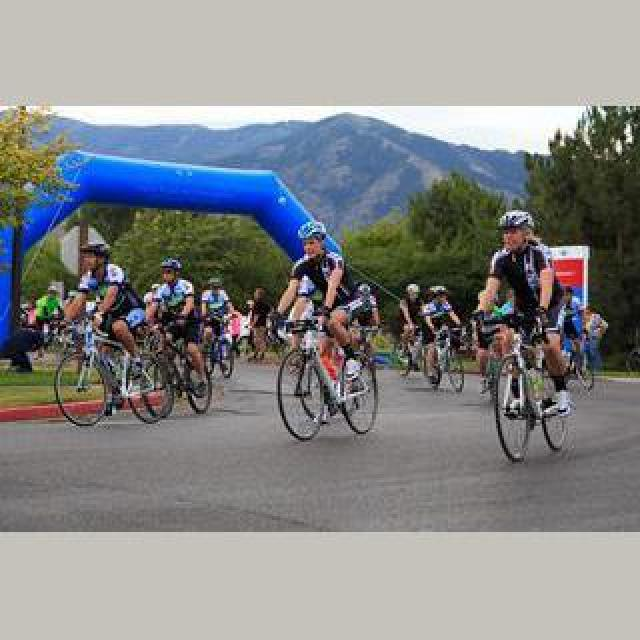MC-Bike: (476, 212, 568, 424), (274, 230, 356, 412), (72, 244, 146, 402), (144, 258, 202, 398), (420, 288, 462, 372), (198, 280, 234, 360), (396, 282, 426, 376), (244, 286, 274, 360), (34, 284, 64, 342)
Person: (54, 312, 170, 426), (278, 318, 380, 440), (490, 314, 570, 462), (142, 318, 212, 418), (426, 324, 468, 392), (202, 314, 238, 380)
